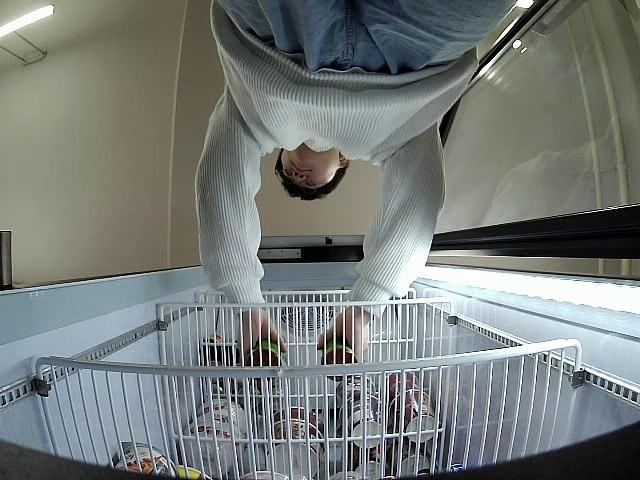00_hand: (317, 307, 368, 363), (239, 309, 289, 355)
19_17cha: (320, 338, 357, 381), (248, 338, 281, 369)
